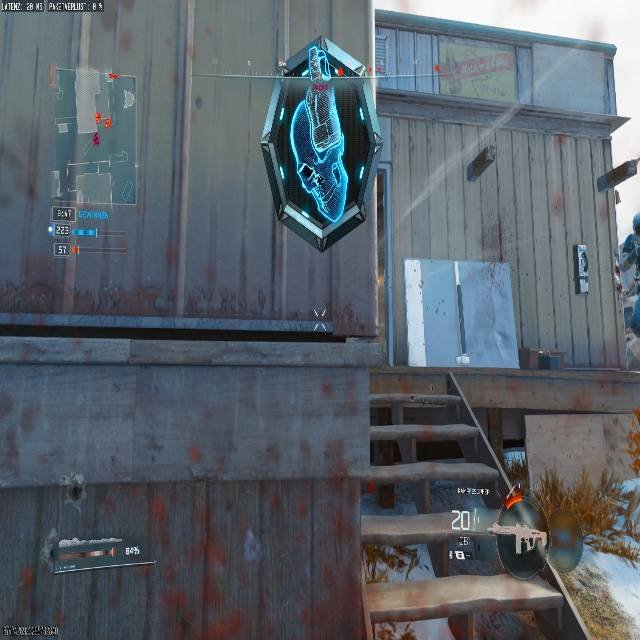head: (632, 210, 639, 236)
